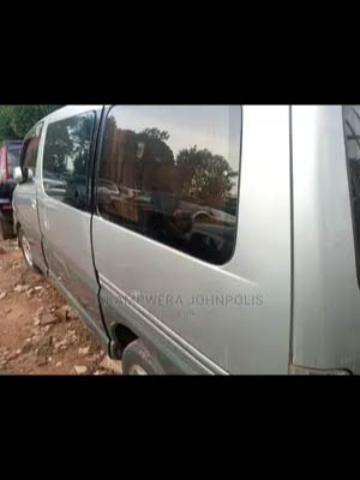van: (12, 106, 359, 370)
